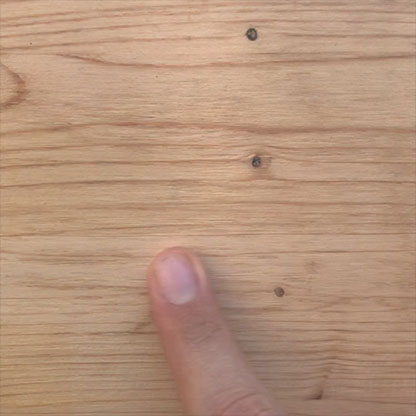fingertip: (136, 238, 225, 324)
